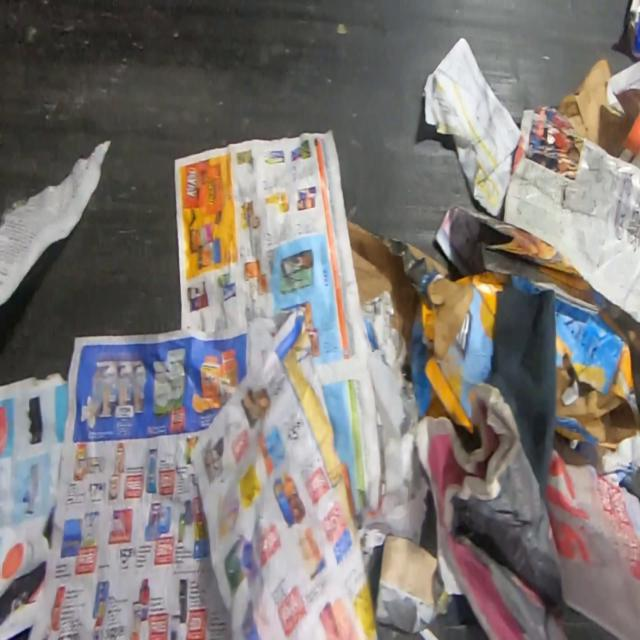cardboard: (407, 268, 640, 453), (347, 218, 453, 380), (556, 55, 640, 158)
